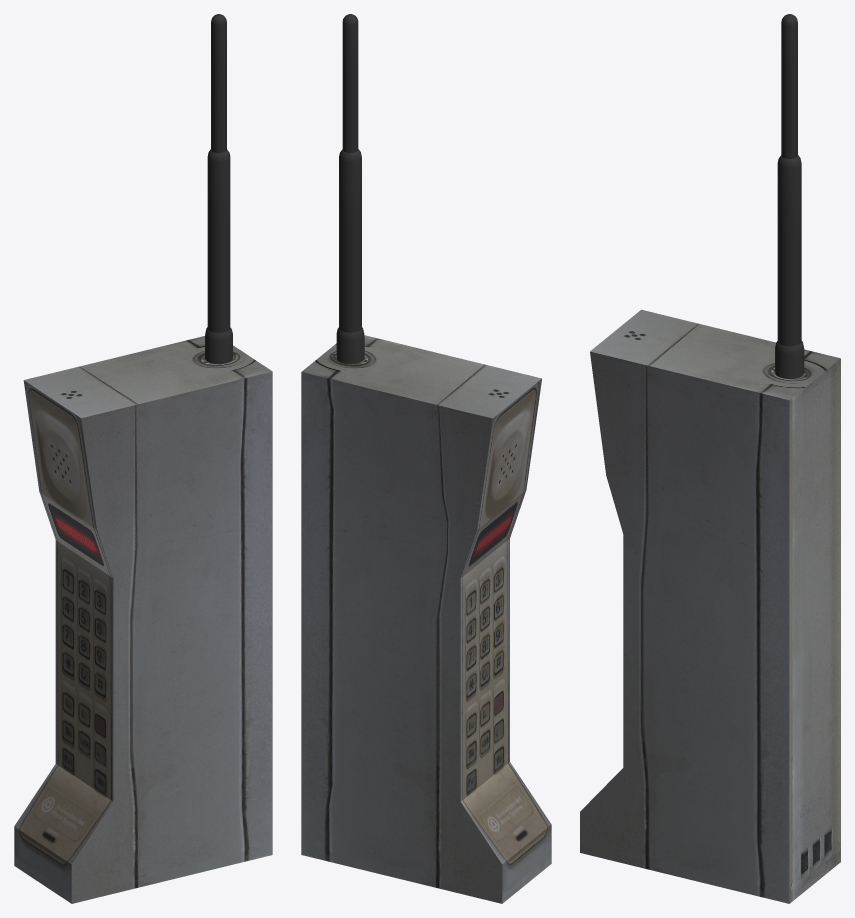
The model's file is celularprimeiroFBX.fbx.
The picture shows the model from 3 angles, left to right: view 1: azimuth 30°, elevation 25°; view 2: azimuth 150°, elevation 25°; view 3: azimuth 330°, elevation 25°; orthographic projection. The views are drawn at different scales.
Parts seen in each view (by area): view 1: Capsule; view 2: Capsule; view 3: Capsule.
Part boxes in pixels (x1=…): Capsule: x1=14, y1=14, x2=272, y2=903; Capsule: x1=301, y1=14, x2=551, y2=903; Capsule: x1=580, y1=14, x2=840, y2=903.
Size of the model in its own units: 816 by 3146 by 369.
1 material, 1 textured.
